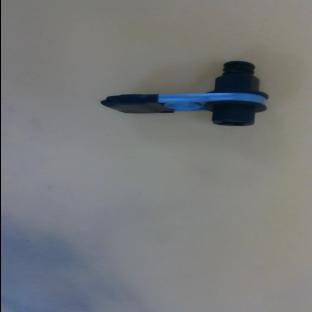part_1_bad: (101, 61, 268, 126)
